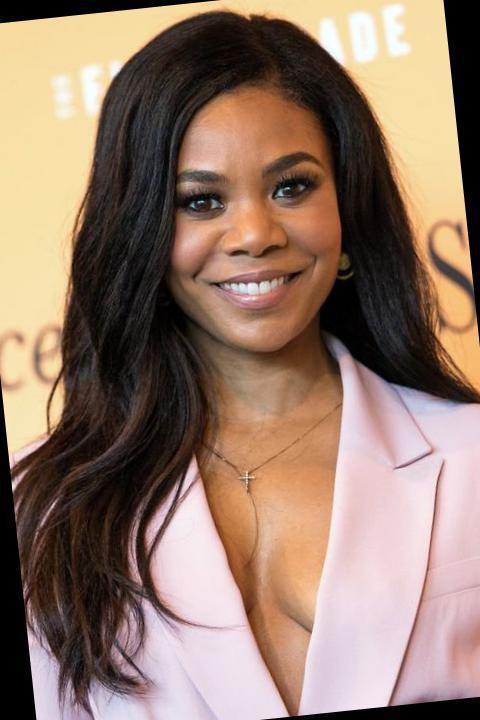Sober: (171, 109, 328, 325)
